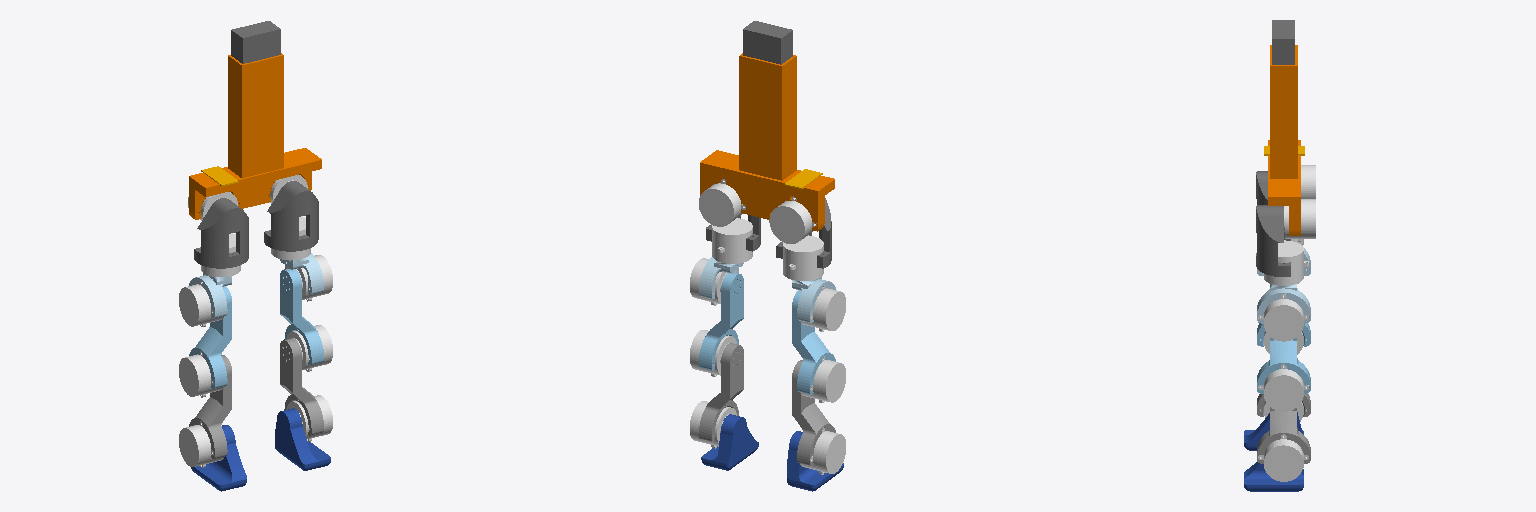
URDF robot description (chicken_v4):
<!--URDF generated by ONSHAPE BY PTC INC, 1.223-->
<robot name="chicken_v4">
    <link name="battery">
        <inertial>
            <mass value="0.000638352" />
            <origin xyz="1.14397e-17 -7.00095e-18 0.078" rpy="0 -0 0" />
            <inertia ixx="1.4096e-06" ixy="0" ixz="0" iyy="1.70653e-06" iyz="0" izz="5.26973e-07" />
        </inertial>
        <visual>
            <origin xyz="1.64023e-17 -6.17031e-18 -0.4202" rpy="0 -0 0" />
            <geometry>
                <mesh filename="package://chicken_v4/meshes/battery.stl" scale="1 1 1" />
            </geometry>
            <material name="0.498039_0.498039_0.498039_0.000000_0.000000">
                <color rgba="0.498039 0.498039 0.498039 1" />
            </material>
        </visual>
    </link>
    <link name="hip">
        <inertial>
            <mass value="1.99881" />
            <origin xyz="0.000107963 0.0040884 0.316914" rpy="0 -0 0" />
            <inertia ixx="0.0122971" ixy="2.28631e-06" ixz="6.03542e-06" iyy="0.0171825" iyz="0.000739245" izz="0.00625971" />
        </inertial>
        <visual>
            <origin xyz="0 0 0" rpy="0 -0 0" />
            <geometry>
                <mesh filename="package://chicken_v4/meshes/hip.stl" scale="1 1 1" />
            </geometry>
            <material name="0.972549_0.529412_0.003922_0.000000_0.000000">
                <color rgba="0.972549 0.529412 0.00392157 1" />
            </material>
        </visual>
    </link>
    <link name="imu">
        <inertial>
            <mass value="0.00215625" />
            <origin xyz="4.66816e-18 3.46945e-18 -0.0015" rpy="0 -0 0" />
            <inertia ixx="9.66719e-08" ixy="0" ixz="0" iyy="1.13922e-07" iyz="0" izz="2.07359e-07" />
        </inertial>
        <visual>
            <origin xyz="4.29988e-18 0.016 -0.2502" rpy="0 -0 0" />
            <geometry>
                <mesh filename="package://chicken_v4/meshes/imu.stl" scale="1 1 1" />
            </geometry>
            <material name="0.498039_0.498039_0.498039_0.000000_0.000000">
                <color rgba="0.498039 0.498039 0.498039 1" />
            </material>
        </visual>
    </link>
    <link name="lfoot">
        <inertial>
            <mass value="0.398861" />
            <origin xyz="-0.00512032 -0.0127343 -0.0441448" rpy="0 -0 0" />
            <inertia ixx="0.000649469" ixy="2.3856e-05" ixz="8.27426e-05" iyy="0.000413478" iyz="-7.95621e-05" izz="0.000461194" />
        </inertial>
        <visual>
            <origin xyz="-0.091 0 0.3099" rpy="0 -0 0" />
            <geometry>
                <mesh filename="package://chicken_v4/meshes/lfoot.stl" scale="1 1 1" />
            </geometry>
            <material name="0.231373_0.380392_0.705882_0.000000_0.000000">
                <color rgba="0.231373 0.380392 0.705882 1" />
            </material>
        </visual>
    </link>
    <link name="lhip">
        <inertial>
            <mass value="0.138705" />
            <origin xyz="0.0197863 -0.000181995 -0.0285944" rpy="0 -0 0" />
            <inertia ixx="0.000178155" ixy="-1.90651e-07" ixz="2.51279e-05" iyy="9.47478e-05" iyz="5.78045e-07" izz="0.00015517" />
        </inertial>
        <visual>
            <origin xyz="-0.0805 1.65633e-18 -0.0655" rpy="0 -0 0" />
            <geometry>
                <mesh filename="package://chicken_v4/meshes/lhip.stl" scale="1 1 1" />
            </geometry>
            <material name="0.768627_0.886275_0.952941_0.000000_0.000000">
                <color rgba="0.768627 0.886275 0.952941 1" />
            </material>
        </visual>
    </link>
    <link name="lhipframe">
        <inertial>
            <mass value="0.000319218" />
            <origin xyz="6.17579e-08 -0.0270727 -0.032878" rpy="0 -0 0" />
            <inertia ixx="5.067e-07" ixy="5.86468e-13" ixz="-2.26866e-13" iyy="6.86542e-07" iyz="-8.15159e-09" izz="3.31843e-07" />
        </inertial>
        <visual>
            <origin xyz="-0.0805 0 -0.1959" rpy="0 -0 0" />
            <geometry>
                <mesh filename="package://chicken_v4/meshes/lhipframe.stl" scale="1 1 1" />
            </geometry>
            <material name="0.498039_0.498039_0.498039_0.000000_0.000000">
                <color rgba="0.498039 0.498039 0.498039 1" />
            </material>
        </visual>
    </link>
    <link name="llegbottom">
        <inertial>
            <mass value="0.273435" />
            <origin xyz="0.0024032 9.68134e-10 -0.0709377" rpy="0 -0 0" />
            <inertia ixx="0.000847357" ixy="-6.68021e-12" ixz="0.000169305" iyy="0.000761933" iyz="1.25674e-11" izz="0.00022029" />
        </inertial>
        <visual>
            <origin xyz="-0.091 0 0.15495" rpy="0 -0 0" />
            <geometry>
                <mesh filename="package://chicken_v4/meshes/llegbottom.stl" scale="1 1 1" />
            </geometry>
            <material name="0.647059_0.647059_0.647059_0.000000_0.000000">
                <color rgba="0.647059 0.647059 0.647059 1" />
            </material>
        </visual>
    </link>
    <link name="llegtop">
        <inertial>
            <mass value="0.273435" />
            <origin xyz="0.0024032 9.68134e-10 -0.0709377" rpy="0 -0 0" />
            <inertia ixx="0.000847357" ixy="-6.68021e-12" ixz="0.000169305" iyy="0.000761933" iyz="1.25675e-11" izz="0.00022029" />
        </inertial>
        <visual>
            <origin xyz="-0.091 0 -1.13708e-17" rpy="0 -0 0" />
            <geometry>
                <mesh filename="package://chicken_v4/meshes/llegtop.stl" scale="1 1 1" />
            </geometry>
            <material name="0.615686_0.811765_0.929412_0.000000_0.000000">
                <color rgba="0.615686 0.811765 0.929412 1" />
            </material>
        </visual>
    </link>
    <link name="lm_ankle">
        <inertial>
            <mass value="0.00032473" />
            <origin xyz="0.00502674 -0.0458 3.88578e-16" rpy="0 -0 0" />
            <inertia ixx="2.6602e-07" ixy="0" ixz="0" iyy="2.4002e-07" iyz="0" izz="2.4002e-07" />
        </inertial>
        <visual>
            <origin xyz="-0.1185 -0.0458 0.3099" rpy="0 -0 0" />
            <geometry>
                <mesh filename="package://chicken_v4/meshes/lm_ankle.stl" scale="1 1 1" />
            </geometry>
            <material name="0.917647_0.917647_0.917647_0.000000_0.000000">
                <color rgba="0.917647 0.917647 0.917647 1" />
            </material>
        </visual>
    </link>
    <link name="lm_hip">
        <inertial>
            <mass value="0.00032473" />
            <origin xyz="0.00502674 -0.0458 1.96785e-18" rpy="0 -0 0" />
            <inertia ixx="2.6602e-07" ixy="0" ixz="0" iyy="2.4002e-07" iyz="0" izz="2.4002e-07" />
        </inertial>
        <visual>
            <origin xyz="-0.1185 -0.0458 -1.24727e-17" rpy="0 -0 0" />
            <geometry>
                <mesh filename="package://chicken_v4/meshes/lm_hip.stl" scale="1 1 1" />
            </geometry>
            <material name="0.917647_0.917647_0.917647_0.000000_0.000000">
                <color rgba="0.917647 0.917647 0.917647 1" />
            </material>
        </visual>
    </link>
    <link name="lm_hip_turn">
        <inertial>
            <mass value="0.00032473" />
            <origin xyz="2.77556e-17 0.0458 -0.00247326" rpy="0 -0 0" />
            <inertia ixx="2.4002e-07" ixy="0" ixz="0" iyy="2.4002e-07" iyz="0" izz="2.6602e-07" />
        </inertial>
        <visual>
            <origin xyz="-0.0805 0.0458 -0.1005" rpy="0 -0 0" />
            <geometry>
                <mesh filename="package://chicken_v4/meshes/lm_hip_turn.stl" scale="1 1 1" />
            </geometry>
            <material name="0.917647_0.917647_0.917647_0.000000_0.000000">
                <color rgba="0.917647 0.917647 0.917647 1" />
            </material>
        </visual>
    </link>
    <link name="lm_knee">
        <inertial>
            <mass value="0.00032473" />
            <origin xyz="0.00502674 -0.0458 1.66533e-16" rpy="0 -0 0" />
            <inertia ixx="2.6602e-07" ixy="0" ixz="0" iyy="2.4002e-07" iyz="0" izz="2.4002e-07" />
        </inertial>
        <visual>
            <origin xyz="-0.1185 -0.0458 0.15495" rpy="0 -0 0" />
            <geometry>
                <mesh filename="package://chicken_v4/meshes/lm_knee.stl" scale="1 1 1" />
            </geometry>
            <material name="0.917647_0.917647_0.917647_0.000000_0.000000">
                <color rgba="0.917647 0.917647 0.917647 1" />
            </material>
        </visual>
    </link>
    <link name="lm_side_hip">
        <inertial>
            <mass value="0.00032473" />
            <origin xyz="0.0458 0.00502674 2.77556e-17" rpy="0 -0 0" />
            <inertia ixx="2.4002e-07" ixy="0" ixz="0" iyy="2.6602e-07" iyz="0" izz="2.4002e-07" />
        </inertial>
        <visual>
            <origin xyz="-0.0347 -0.0275 -0.1959" rpy="0 -0 0" />
            <geometry>
                <mesh filename="package://chicken_v4/meshes/lm_side_hip.stl" scale="1 1 1" />
            </geometry>
            <material name="0.917647_0.917647_0.917647_0.000000_0.000000">
                <color rgba="0.917647 0.917647 0.917647 1" />
            </material>
        </visual>
    </link>
    <link name="rfoot">
        <inertial>
            <mass value="0.398861" />
            <origin xyz="0.00512032 -0.0127342 -0.0441448" rpy="0 -0 0" />
            <inertia ixx="0.000649469" ixy="-2.3856e-05" ixz="-8.27426e-05" iyy="0.000413478" iyz="-7.95621e-05" izz="0.000461194" />
        </inertial>
        <visual>
            <origin xyz="0.091 0 0.3099" rpy="0 -0 0" />
            <geometry>
                <mesh filename="package://chicken_v4/meshes/rfoot.stl" scale="1 1 1" />
            </geometry>
            <material name="0.231373_0.380392_0.705882_0.000000_0.000000">
                <color rgba="0.231373 0.380392 0.705882 1" />
            </material>
        </visual>
    </link>
    <link name="rhip">
        <inertial>
            <mass value="0.138705" />
            <origin xyz="-0.0197863 -0.000182002 -0.0285944" rpy="0 -0 0" />
            <inertia ixx="0.000178155" ixy="1.9067e-07" ixz="-2.51278e-05" iyy="9.47475e-05" iyz="5.78099e-07" izz="0.00015517" />
        </inertial>
        <visual>
            <origin xyz="0.0805 1.65633e-18 -0.0655" rpy="0 -0 0" />
            <geometry>
                <mesh filename="package://chicken_v4/meshes/rhip.stl" scale="1 1 1" />
            </geometry>
            <material name="0.768627_0.886275_0.952941_0.000000_0.000000">
                <color rgba="0.768627 0.886275 0.952941 1" />
            </material>
        </visual>
    </link>
    <link name="rhipframe">
        <inertial>
            <mass value="0.000319218" />
            <origin xyz="5.83778e-08 -0.0270727 -0.032878" rpy="0 -0 0" />
            <inertia ixx="5.067e-07" ixy="5.60842e-13" ixz="-1.70845e-13" iyy="6.86542e-07" iyz="-8.15159e-09" izz="3.31843e-07" />
        </inertial>
        <visual>
            <origin xyz="0.0805 0 -0.1959" rpy="0 -0 0" />
            <geometry>
                <mesh filename="package://chicken_v4/meshes/rhipframe.stl" scale="1 1 1" />
            </geometry>
            <material name="0.498039_0.498039_0.498039_0.000000_0.000000">
                <color rgba="0.498039 0.498039 0.498039 1" />
            </material>
        </visual>
    </link>
    <link name="rlegbottom">
        <inertial>
            <mass value="0.273435" />
            <origin xyz="-0.0024032 9.56872e-10 -0.0709377" rpy="0 -0 0" />
            <inertia ixx="0.000847357" ixy="5.22396e-12" ixz="-0.000169305" iyy="0.000761933" iyz="1.14763e-11" izz="0.00022029" />
        </inertial>
        <visual>
            <origin xyz="0.091 0 0.15495" rpy="0 -0 0" />
            <geometry>
                <mesh filename="package://chicken_v4/meshes/rlegbottom.stl" scale="1 1 1" />
            </geometry>
            <material name="0.647059_0.647059_0.647059_0.000000_0.000000">
                <color rgba="0.647059 0.647059 0.647059 1" />
            </material>
        </visual>
    </link>
    <link name="rlegtop">
        <inertial>
            <mass value="0.273435" />
            <origin xyz="-0.0024032 9.56872e-10 -0.0709377" rpy="0 -0 0" />
            <inertia ixx="0.000847357" ixy="5.22396e-12" ixz="-0.000169305" iyy="0.000761933" iyz="1.14763e-11" izz="0.00022029" />
        </inertial>
        <visual>
            <origin xyz="0.091 0 -1.13708e-17" rpy="0 -0 0" />
            <geometry>
                <mesh filename="package://chicken_v4/meshes/rlegtop.stl" scale="1 1 1" />
            </geometry>
            <material name="0.615686_0.811765_0.929412_0.000000_0.000000">
                <color rgba="0.615686 0.811765 0.929412 1" />
            </material>
        </visual>
    </link>
    <link name="rm_ankle">
        <inertial>
            <mass value="0.00032473" />
            <origin xyz="-0.00502674 0.0458 3.88578e-16" rpy="0 -0 0" />
            <inertia ixx="2.6602e-07" ixy="0" ixz="0" iyy="2.4002e-07" iyz="0" izz="2.4002e-07" />
        </inertial>
        <visual>
            <origin xyz="0.1185 0.0458 0.3099" rpy="0 -0 0" />
            <geometry>
                <mesh filename="package://chicken_v4/meshes/rm_ankle.stl" scale="1 1 1" />
            </geometry>
            <material name="0.917647_0.917647_0.917647_0.000000_0.000000">
                <color rgba="0.917647 0.917647 0.917647 1" />
            </material>
        </visual>
    </link>
    <link name="rm_hip">
        <inertial>
            <mass value="0.00032473" />
            <origin xyz="-0.00502674 0.0458 -1.48593e-18" rpy="0 -0 0" />
            <inertia ixx="2.6602e-07" ixy="0" ixz="0" iyy="2.4002e-07" iyz="0" izz="2.4002e-07" />
        </inertial>
        <visual>
            <origin xyz="0.1185 0.0458 -1.67493e-17" rpy="0 -0 0" />
            <geometry>
                <mesh filename="package://chicken_v4/meshes/rm_hip.stl" scale="1 1 1" />
            </geometry>
            <material name="0.917647_0.917647_0.917647_0.000000_0.000000">
                <color rgba="0.917647 0.917647 0.917647 1" />
            </material>
        </visual>
    </link>
    <link name="rm_hip_turn">
        <inertial>
            <mass value="0.00032473" />
            <origin xyz="-2.77556e-17 0.0458 -0.00247326" rpy="0 -0 0" />
            <inertia ixx="2.4002e-07" ixy="0" ixz="0" iyy="2.4002e-07" iyz="0" izz="2.6602e-07" />
        </inertial>
        <visual>
            <origin xyz="0.0805 0.0458 -0.1005" rpy="0 -0 0" />
            <geometry>
                <mesh filename="package://chicken_v4/meshes/rm_hip_turn.stl" scale="1 1 1" />
            </geometry>
            <material name="0.917647_0.917647_0.917647_0.000000_0.000000">
                <color rgba="0.917647 0.917647 0.917647 1" />
            </material>
        </visual>
    </link>
    <link name="rm_knee">
        <inertial>
            <mass value="0.00032473" />
            <origin xyz="-0.00502674 0.0458 1.38778e-16" rpy="0 -0 0" />
            <inertia ixx="2.6602e-07" ixy="0" ixz="0" iyy="2.4002e-07" iyz="0" izz="2.4002e-07" />
        </inertial>
        <visual>
            <origin xyz="0.1185 0.0458 0.15495" rpy="0 -0 0" />
            <geometry>
                <mesh filename="package://chicken_v4/meshes/rm_knee.stl" scale="1 1 1" />
            </geometry>
            <material name="0.917647_0.917647_0.917647_0.000000_0.000000">
                <color rgba="0.917647 0.917647 0.917647 1" />
            </material>
        </visual>
    </link>
    <link name="rm_side_hip">
        <inertial>
            <mass value="0.00032473" />
            <origin xyz="0.0458 0.00502674 2.77556e-17" rpy="0 -0 0" />
            <inertia ixx="2.4002e-07" ixy="0" ixz="0" iyy="2.6602e-07" iyz="0" izz="2.4002e-07" />
        </inertial>
        <visual>
            <origin xyz="0.1263 -0.0275 -0.1959" rpy="0 -0 0" />
            <geometry>
                <mesh filename="package://chicken_v4/meshes/rm_side_hip.stl" scale="1 1 1" />
            </geometry>
            <material name="0.917647_0.917647_0.917647_0.000000_0.000000">
                <color rgba="0.917647 0.917647 0.917647 1" />
            </material>
        </visual>
    </link>
    <link name="root" />
    <link name="stm32">
        <inertial>
            <mass value="0.0123" />
            <origin xyz="1.38778e-17 1.73472e-17 0.0015" rpy="0 -0 0" />
            <inertia ixx="6.90133e-06" ixy="0" ixz="0" iyy="1.64922e-06" iyz="0" izz="8.5321e-06" />
        </inertial>
        <visual>
            <origin xyz="0.0817529 -0.00263012 -0.2702" rpy="0 -0 0" />
            <geometry>
                <mesh filename="package://chicken_v4/meshes/stm32.stl" scale="1 1 1" />
            </geometry>
            <material name="0.980392_0.713725_0.003922_0.000000_0.000000">
                <color rgba="0.980392 0.713726 0.00392157 1" />
            </material>
        </visual>
    </link>
    <joint name="fastened_1" type="fixed">
        <origin xyz="-1.64023e-17 6.17031e-18 0.4202" rpy="0 -0 0" />
        <axis xyz="0 0 -1" />
        <parent link="hip" />
        <child link="battery" />
    </joint>
    <joint name="fastened_10" type="fixed">
        <origin xyz="-0.0275 -0.0458 -0.15495" rpy="0 -0 0" />
        <axis xyz="1 0 -1.06752e-16" />
        <parent link="rlegtop" />
        <child link="rm_knee" />
    </joint>
    <joint name="fastened_11" type="fixed">
        <origin xyz="-0.0275 -0.0458 -0.15495" rpy="0 -0 0" />
        <axis xyz="1 0 -1.06752e-16" />
        <parent link="rlegbottom" />
        <child link="rm_ankle" />
    </joint>
    <joint name="fastened_12" type="fixed">
        <origin xyz="-1.38778e-17 -0.0458 -0.0954" rpy="0 -0 0" />
        <axis xyz="1.10098e-16 0 1" />
        <parent link="lhipframe" />
        <child link="lm_hip_turn" />
    </joint>
    <joint name="fastened_13" type="fixed">
        <origin xyz="0 -0.0458 -0.0954" rpy="-5.47382e-48 -4.68168e-97 -1.71057e-49" />
        <axis xyz="-1.10098e-16 0 1" />
        <parent link="rhipframe" />
        <child link="rm_hip_turn" />
    </joint>
    <joint name="fastened_2" type="fixed">
        <origin xyz="-4.29988e-18 -0.016 0.2512" rpy="0 -0 0" />
        <axis xyz="0 0 1" />
        <parent link="hip" />
        <child link="imu" />
    </joint>
    <joint name="fastened_3" type="fixed">
        <origin xyz="-0.0817529 0.0015 0.2692" rpy="0 -0 0" />
        <axis xyz="0 0 -1" />
        <parent link="hip" />
        <child link="stm32" />
    </joint>
    <joint name="fastened_4" type="fixed">
        <origin xyz="-0.1263 0.0275 0.1959" rpy="0 -0 0" />
        <axis xyz="0 -1 0" />
        <parent link="hip" />
        <child link="rm_side_hip" />
    </joint>
    <joint name="fastened_5" type="fixed">
        <origin xyz="0.0347 0.0275 0.1959" rpy="0 -0 0" />
        <axis xyz="0 -1 0" />
        <parent link="hip" />
        <child link="lm_side_hip" />
    </joint>
    <joint name="fastened_6" type="fixed">
        <origin xyz="0.038 0.0458 -0.0655" rpy="0 -0 0" />
        <axis xyz="-1 0 -1.06752e-16" />
        <parent link="lhip" />
        <child link="lm_hip" />
    </joint>
    <joint name="fastened_7" type="fixed">
        <origin xyz="0.0275 0.0458 -0.15495" rpy="0 -0 0" />
        <axis xyz="-1 0 -1.06752e-16" />
        <parent link="llegtop" />
        <child link="lm_knee" />
    </joint>
    <joint name="fastened_8" type="fixed">
        <origin xyz="0.0275 0.0458 -0.15495" rpy="0 -0 0" />
        <axis xyz="-1 0 -1.06752e-16" />
        <parent link="llegbottom" />
        <child link="lm_ankle" />
    </joint>
    <joint name="fastened_9" type="fixed">
        <origin xyz="-0.038 -0.0458 -0.0655" rpy="0 -0 0" />
        <axis xyz="1 0 -1.06752e-16" />
        <parent link="rhip" />
        <child link="rm_hip" />
    </joint>
    <joint name="fixed_node_to_root_joint" type="fixed">
        <origin xyz="0 0 0" rpy="0 -0 0" />
        <axis xyz="0 0 1" />
        <parent link="root" />
        <child link="hip" />
    </joint>
    <joint name="lfoot" type="revolute">
        <origin xyz="-0.02625 -0.0458 -5.55112e-17" rpy="0 -0 0" />
        <axis xyz="-1 -0 -1.06752e-16" />
        <parent link="lm_ankle" />
        <child link="lfoot" />
        <limit effort="1" velocity="1" lower="-1.5708" upper="1.5708" />
    </joint>
    <joint name="lhip" type="revolute">
        <origin xyz="-0.0275 -0.0458 -3.03545e-18" rpy="0 -0 0" />
        <axis xyz="1 0 1.06752e-16" />
        <parent link="lm_hip" />
        <child link="llegtop" />
        <limit effort="1" velocity="1" lower="-2.0944" upper="0.523599" />
    </joint>
    <joint name="lknee" type="revolute">
        <origin xyz="-0.0275 -0.0458 0" rpy="0 -0 0" />
        <axis xyz="1 0 1.06752e-16" />
        <parent link="lm_knee" />
        <child link="llegbottom" />
        <limit effort="1" velocity="1" lower="0" upper="2.26893" />
    </joint>
    <joint name="lsidehip" type="revolute">
        <origin xyz="0.0458 -0.0275 5.55112e-17" rpy="0 -0 0" />
        <axis xyz="0 1 0" />
        <parent link="lm_side_hip" />
        <child link="lhipframe" />
        <limit effort="1" velocity="1" lower="-0.959931" upper="0.0959931" />
    </joint>
    <joint name="lturnhip" type="revolute">
        <origin xyz="0 0.0458 -0.035" rpy="0 -0 0" />
        <axis xyz="1.10098e-16 0 1" />
        <parent link="lm_hip_turn" />
        <child link="lhip" />
        <limit effort="1" velocity="1" lower="-0.785398" upper="0.785398" />
    </joint>
    <joint name="rfoot" type="revolute">
        <origin xyz="0.0275 0.0458 0" rpy="0 -0 0" />
        <axis xyz="-1 0 1.06752e-16" />
        <parent link="rm_ankle" />
        <child link="rfoot" />
        <limit effort="1" velocity="1" lower="-1.5708" upper="1.5708" />
    </joint>
    <joint name="rhip" type="revolute">
        <origin xyz="0.0275 0.0458 -7.31201e-18" rpy="0 -0 0" />
        <axis xyz="-1 0 1.06752e-16" />
        <parent link="rm_hip" />
        <child link="rlegtop" />
        <limit effort="1" velocity="1" lower="-0.523599" upper="2.0944" />
    </joint>
    <joint name="rknee" type="revolute">
        <origin xyz="0.0275 0.0458 -5.55112e-17" rpy="0 -0 0" />
        <axis xyz="-1 0 1.06752e-16" />
        <parent link="rm_knee" />
        <child link="rlegbottom" />
        <limit effort="1" velocity="1" lower="-2.26893" upper="0" />
    </joint>
    <joint name="rsidehip" type="revolute">
        <origin xyz="0.0458 -0.0275 8.32667e-17" rpy="-5.47382e-48 -4.68168e-97 -1.71057e-49" />
        <axis xyz="0 1 0" />
        <parent link="rm_side_hip" />
        <child link="rhipframe" />
        <limit effort="1" velocity="1" lower="-0.0959931" upper="0.959931" />
    </joint>
    <joint name="rturnhip" type="revolute">
        <origin xyz="0 0.0458 -0.035" rpy="0 -0 0" />
        <axis xyz="-1.10098e-16 0 1" />
        <parent link="rm_hip_turn" />
        <child link="rhip" />
        <limit effort="1" velocity="1" lower="-0.785398" upper="0.785398" />
    </joint>
</robot>

--- Facts derived from the render (not from the file) ---
Views: 3 orthographic renders of the robot side by side, from view 1: azimuth 30°, elevation 25°; view 2: azimuth 150°, elevation 25°; view 3: azimuth 270°, elevation 25°.
Model chicken_v4 with 25 links and 24 joints (10 revolute, 14 fixed), rooted at root, posed all joints at 0.
Visible links, largest first — view 1: hip, lhipframe, rhipframe, lfoot, llegbottom, llegtop, battery, rlegbottom, rlegtop, rfoot, rm_ankle, rm_knee (+6 smaller); view 2: hip, llegbottom, llegtop, lfoot, battery, rlegbottom, rlegtop, lm_hip_turn, rm_hip_turn, lm_side_hip, rm_side_hip, rm_ankle (+9 smaller); view 3: hip, lhipframe, lm_knee, lm_ankle, lm_hip, llegtop, llegbottom, lfoot, lm_hip_turn, battery, lhip, lm_side_hip (+1 smaller).
Link boxes in pixels (left/top/right/bottom): hip: left=189, top=53, right=321, bottom=219; lhipframe: left=264, top=181, right=318, bottom=251; rhipframe: left=194, top=198, right=248, bottom=268; lfoot: left=275, top=408, right=330, bottom=470; llegbottom: left=280, top=338, right=323, bottom=435; llegtop: left=280, top=269, right=323, bottom=364; battery: left=231, top=21, right=280, bottom=63; rlegbottom: left=189, top=355, right=231, bottom=458; rlegtop: left=189, top=286, right=231, bottom=388; rfoot: left=191, top=425, right=246, bottom=491; rm_ankle: left=179, top=421, right=223, bottom=467; rm_knee: left=179, top=351, right=224, bottom=397; hip: left=700, top=53, right=834, bottom=231; llegbottom: left=699, top=343, right=743, bottom=441; llegtop: left=699, top=273, right=743, bottom=370; lfoot: left=701, top=414, right=758, bottom=470; battery: left=743, top=21, right=792, bottom=64; rlegbottom: left=792, top=360, right=835, bottom=465; rlegtop: left=792, top=290, right=835, bottom=394; lm_hip_turn: left=712, top=218, right=752, bottom=263; rm_hip_turn: left=783, top=235, right=823, bottom=280; lm_side_hip: left=699, top=179, right=745, bottom=226; rm_side_hip: left=769, top=196, right=816, bottom=243; rm_ankle: left=800, top=427, right=845, bottom=474; hip: left=1268, top=45, right=1300, bottom=235; lhipframe: left=1256, top=205, right=1290, bottom=276; lm_knee: left=1258, top=364, right=1308, bottom=411; lm_ankle: left=1258, top=434, right=1308, bottom=481; lm_hip: left=1258, top=294, right=1308, bottom=341; llegtop: left=1257, top=337, right=1310, bottom=393; llegbottom: left=1257, top=407, right=1310, bottom=463; lfoot: left=1244, top=462, right=1303, bottom=491; lm_hip_turn: left=1264, top=240, right=1308, bottom=285; battery: left=1272, top=20, right=1294, bottom=64; lhip: left=1257, top=284, right=1310, bottom=323; lm_side_hip: left=1284, top=199, right=1315, bottom=241.
Bounding box of the posed robot: 0.3102 × 0.1435 × 0.9641 m (x, y, z).
24 mesh visuals loaded from 24 distinct referenced files (24 binary STL).
